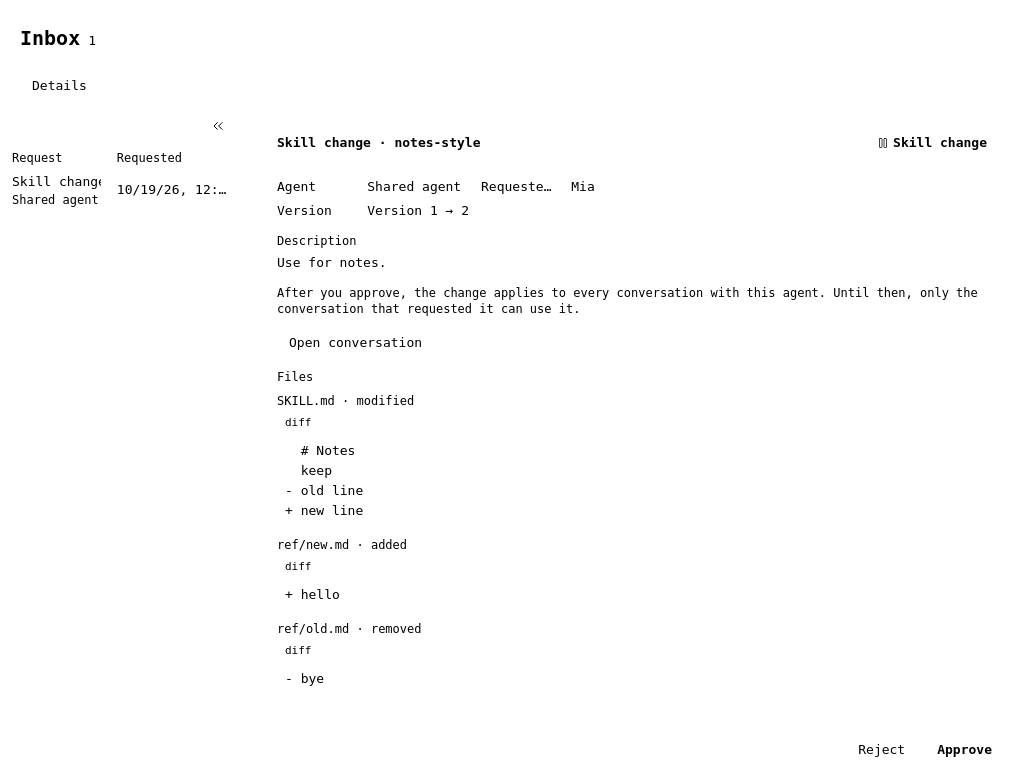
收件箱：技能变更 › 批准：POST decide 后重读列表、顶栏待处理数刷新
The width and height of the screenshot is (1024, 768).
What coordinates should you click on to do the following:
click the button "Approve"
I would click on:
 (965, 750)
Its box is [925, 736, 1004, 764].
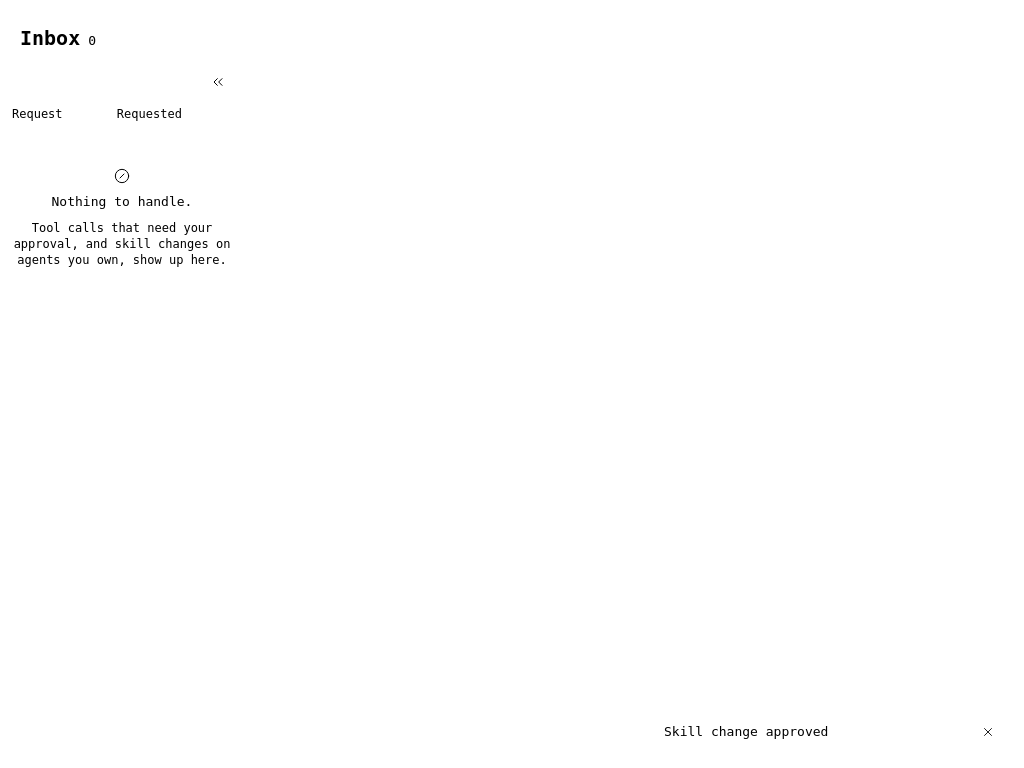
Expected: the text "Skill change approved" is shown, [664, 724, 828, 739]
Expected: the text "Nothing to handle." is shown, [52, 192, 192, 212]
